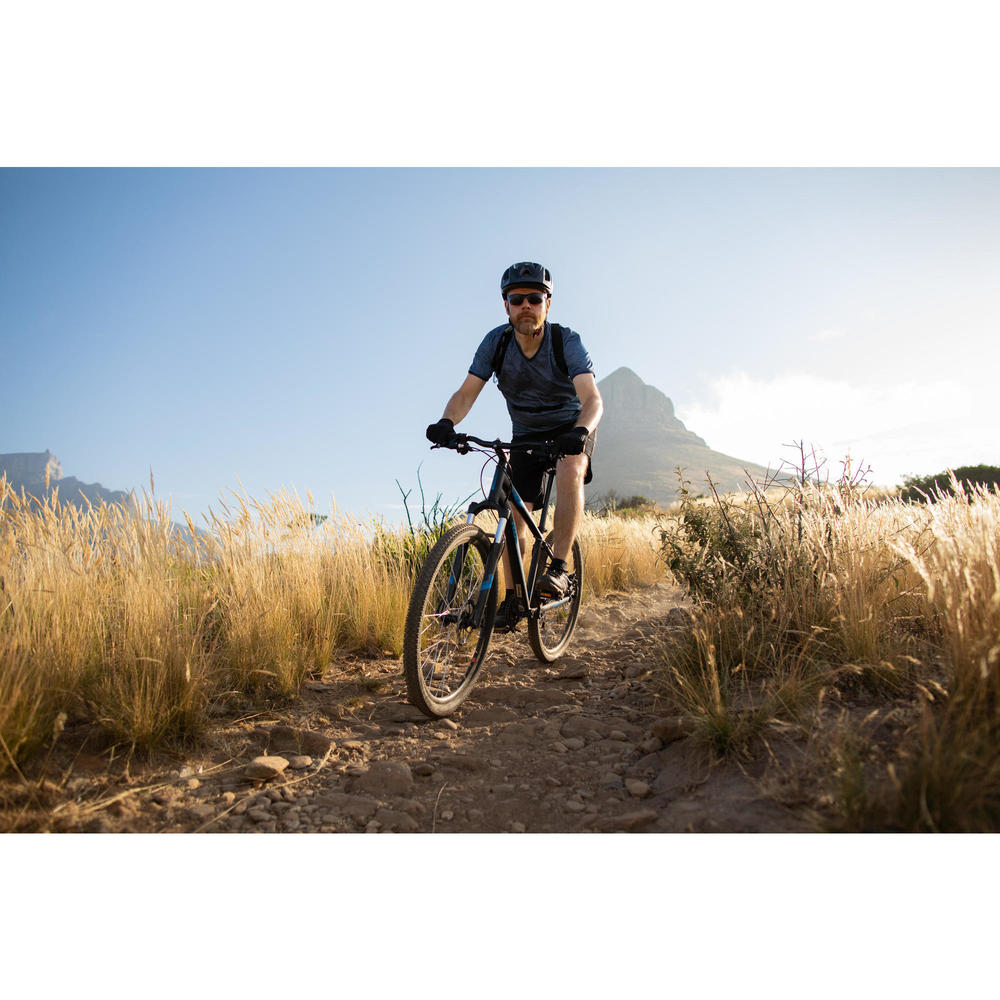MountainBike: (394, 427, 591, 722)
